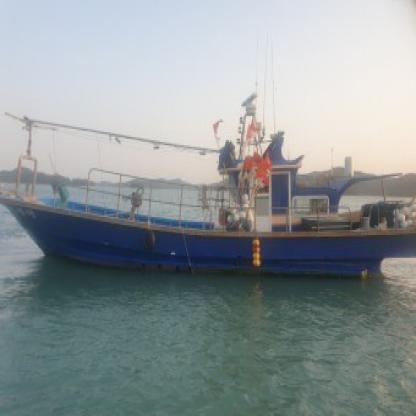fish-b: (0, 102, 415, 290)
